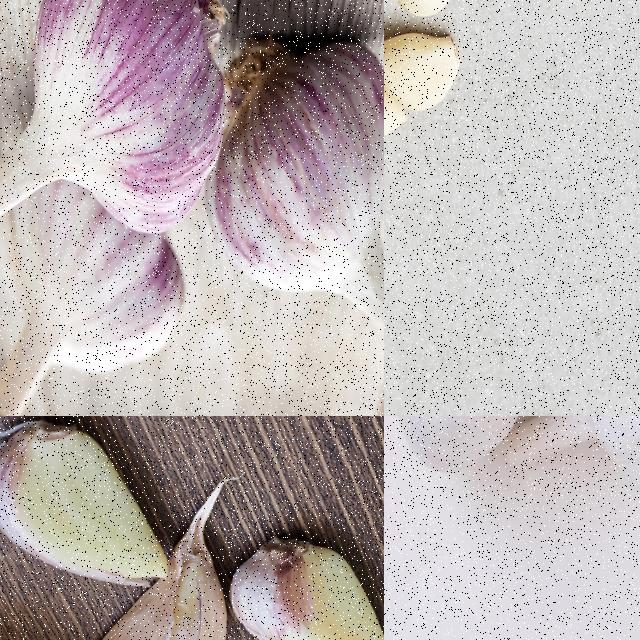garlic: (194, 21, 383, 368), (0, 0, 231, 252), (0, 164, 184, 415), (0, 416, 166, 582), (228, 535, 383, 639), (384, 416, 605, 479), (503, 416, 639, 517), (89, 550, 223, 639), (384, 21, 464, 144)
